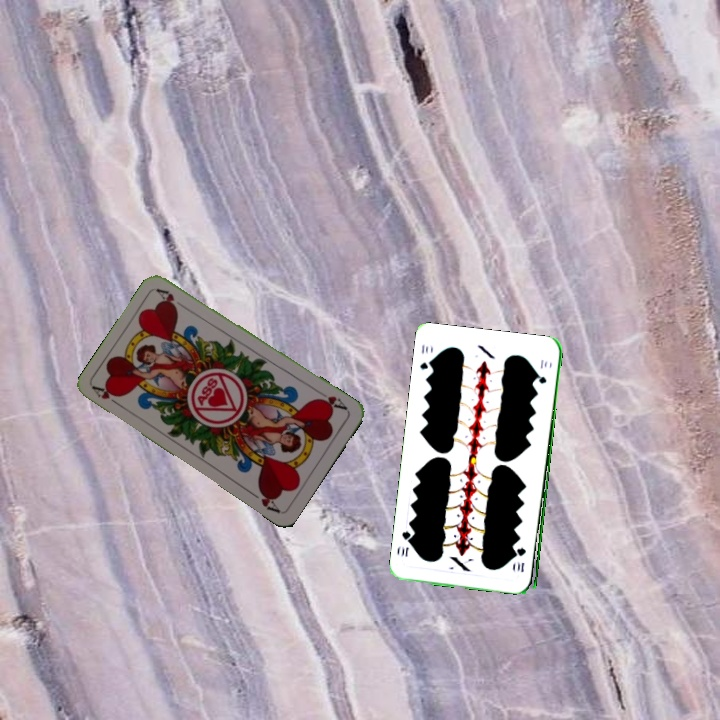G10: (416, 340, 435, 372), (513, 544, 528, 575)
HA: (89, 382, 126, 410), (313, 387, 350, 413)
